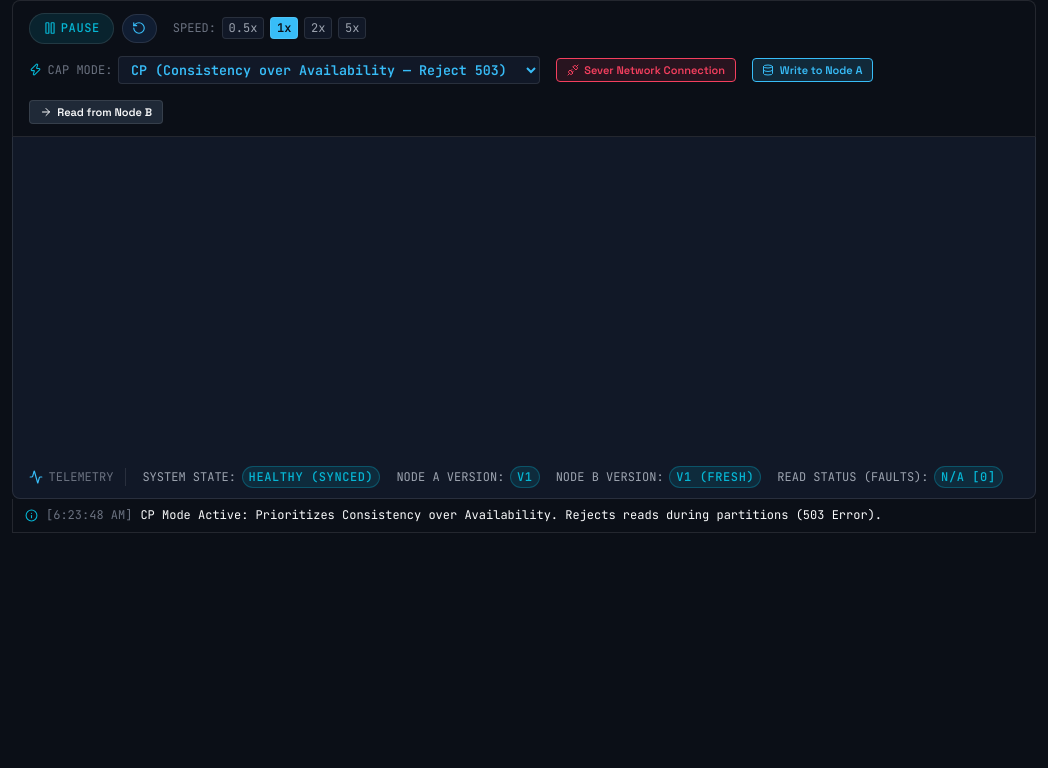
CapTheoremVisualizer (Catalog Viz #5) › handles CP mode + Partition read rejection (HTTP 503)
// Sever partition
Click the button "Sever Network Connection": {"x": 646, "y": 70} left=556, top=58, right=736, bottom=82
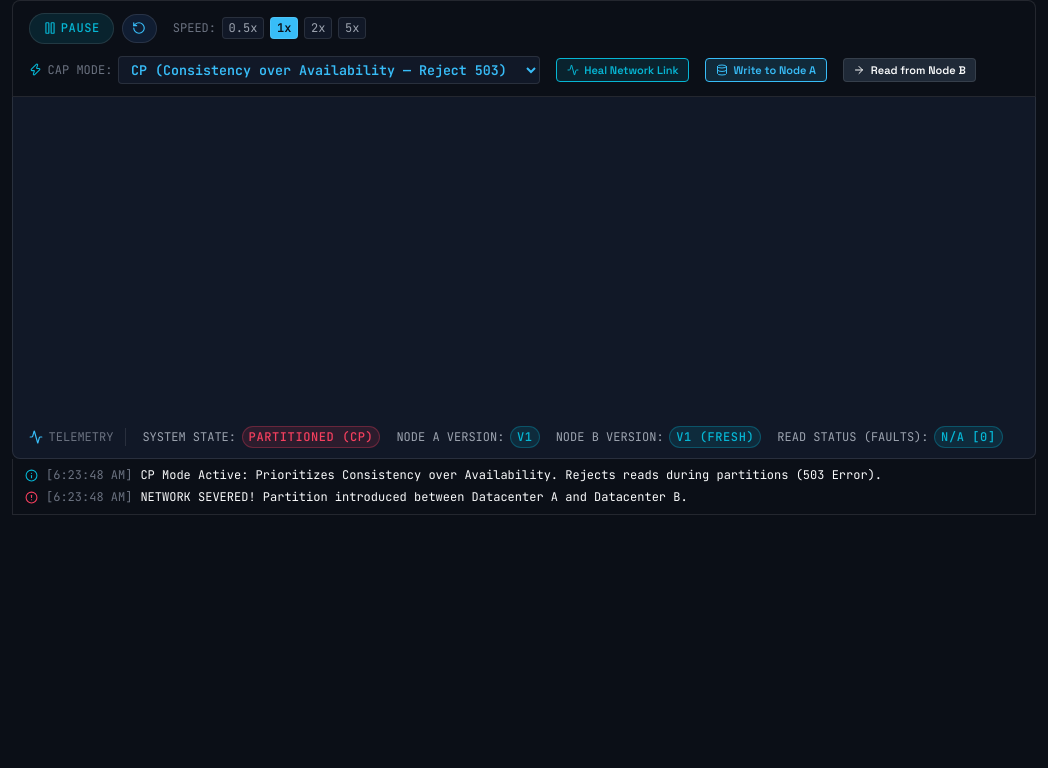
// Write Node A
Click the button "Write to Node A": {"x": 766, "y": 70} left=705, top=58, right=827, bottom=82
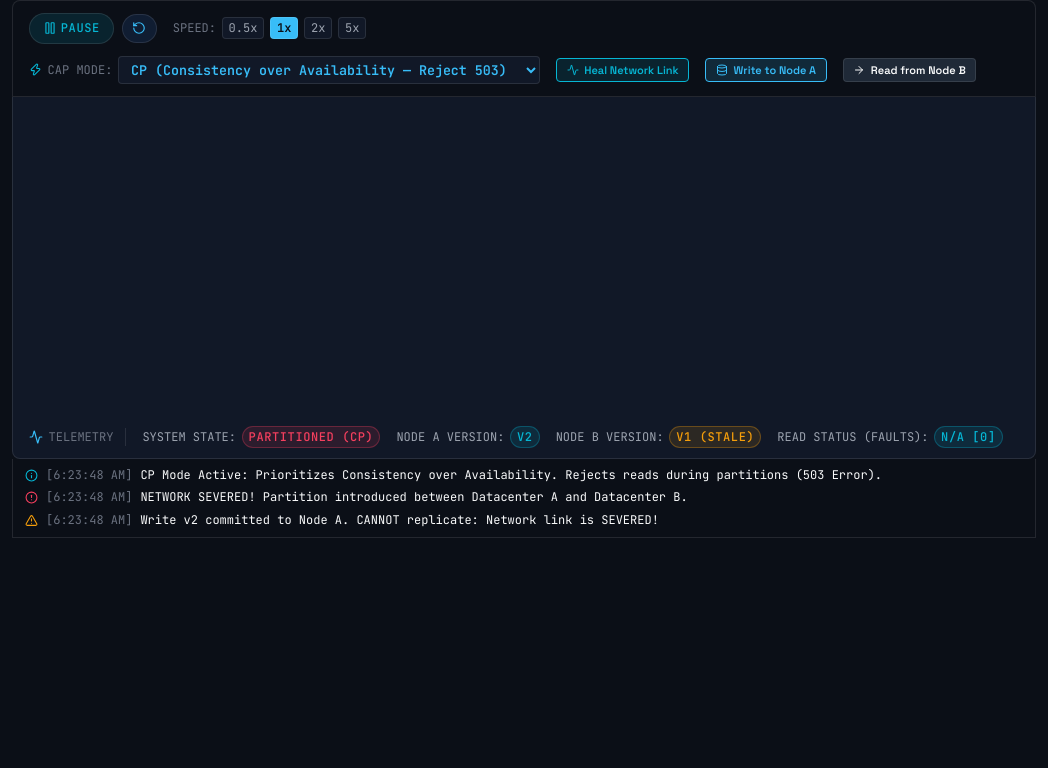
// Read Node B in CP mode
Click the button "Read from Node B": {"x": 910, "y": 70} left=843, top=58, right=976, bottom=82
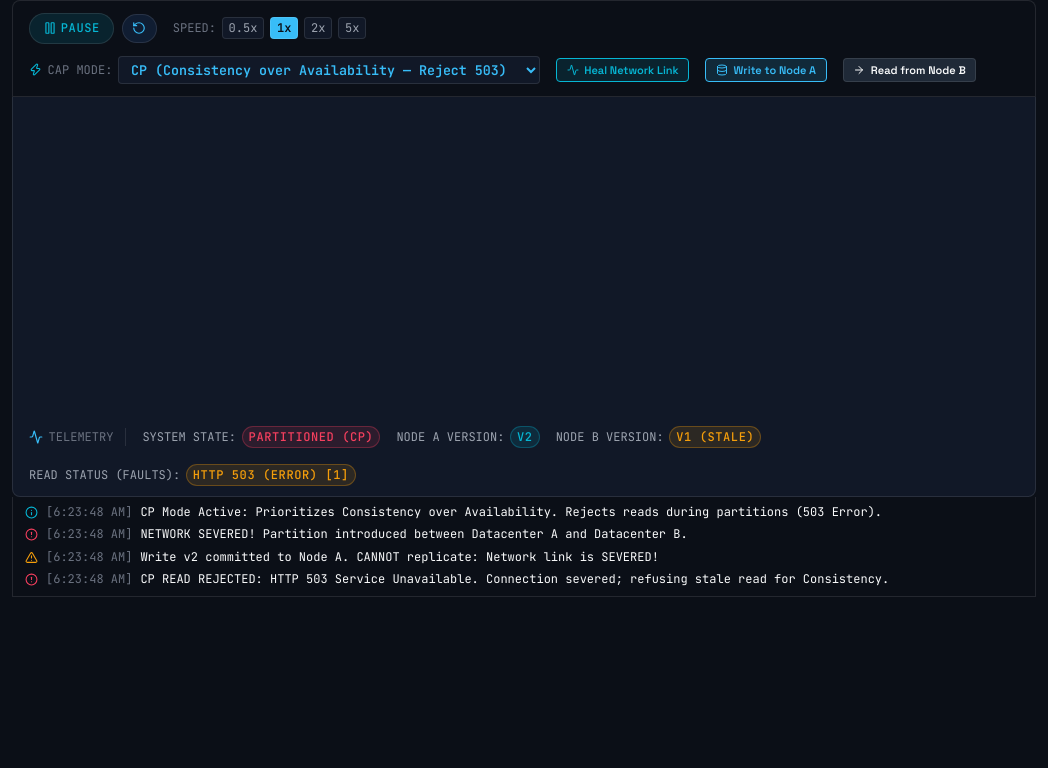
Now the text "CP READ REJECTED: HTTP 503 Service Unavailable" is shown, box left=140, top=571, right=889, bottom=587
